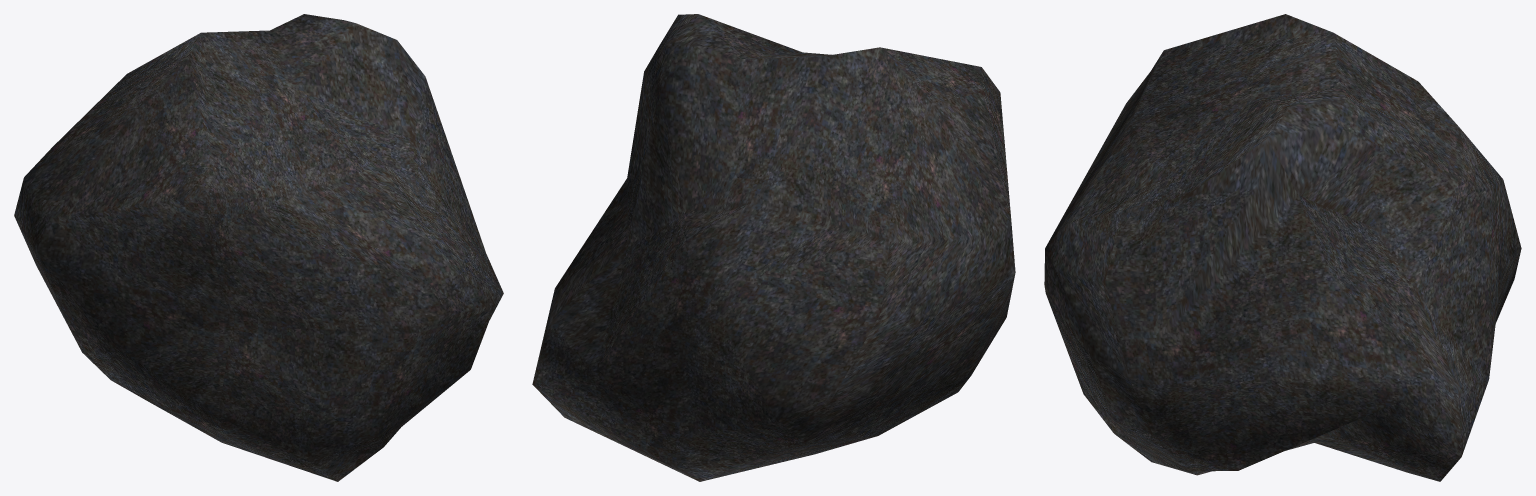
The model's file is asteroid_metal_large_s02_l2.fbx.
The picture shows the model from 3 angles, left to right: view 1: azimuth 30°, elevation 25°; view 2: azimuth 150°, elevation 25°; view 3: azimuth 270°, elevation 25°; orthographic projection. The views are drawn at different scales.
Parts seen in each view (by area): view 1: mesh_node; view 2: mesh_node; view 3: mesh_node.
Boxes of the visible parts, left/top/right/bottom form: mesh_node: left=14, top=14, right=503, bottom=481; mesh_node: left=532, top=14, right=1015, bottom=481; mesh_node: left=1044, top=14, right=1521, bottom=481.
Bounding box in the file's own units: 110 × 110 × 114.
